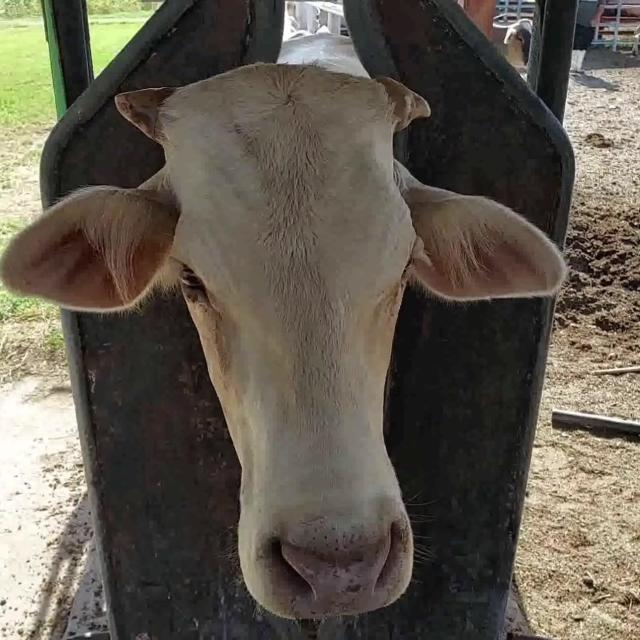cowFace: (162, 49, 424, 606)
